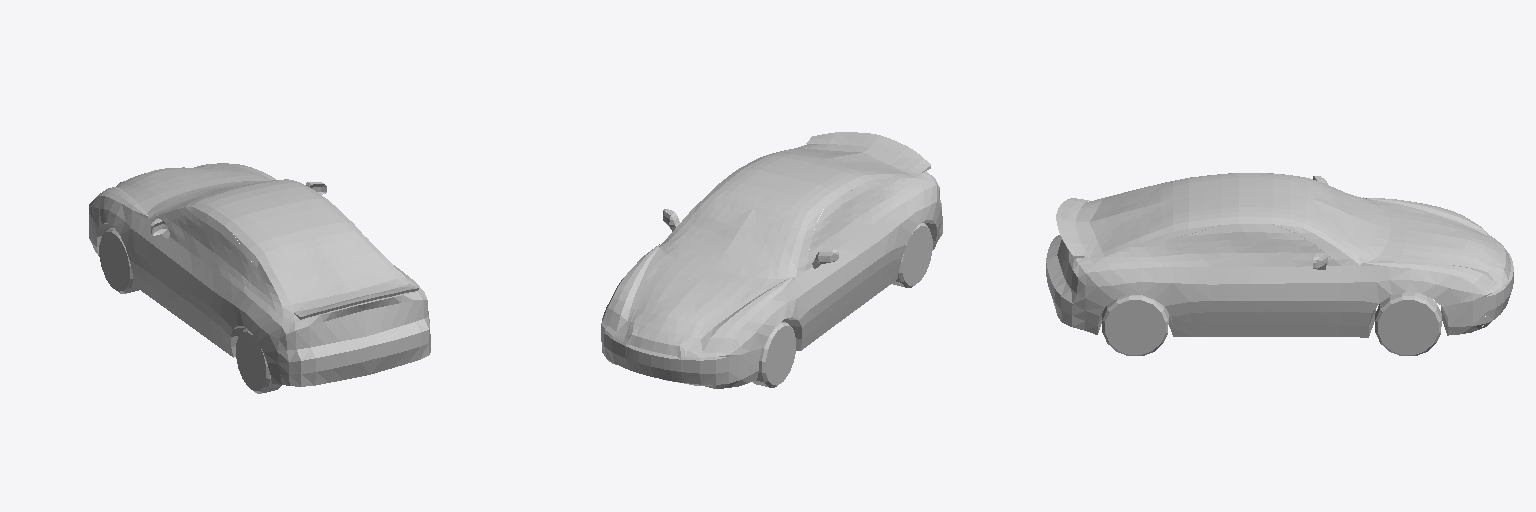
File: Hyundai Coupe1.obj
3 views of the same model, side by side, from view 1: azimuth 30°, elevation 25°; view 2: azimuth 150°, elevation 25°; view 3: azimuth 270°, elevation 25° (orthographic).
Visible parts, largest first — view 1: hundai_car strana_L, hundai_car krma, hundai_car krov, hundai_car sajba_zadnja, hundai_car hauba, hundai_car prozori_strana_L, hundai_car portapak, guma_prednja_L hundai_car, hundai_car guma_zadnja_L, hundai_car sajba_prednja, hundai_car krilce; view 2: hundai_car strana_L, hundai_car hauba, hundai_car sajba_prednja, hundai_car krov, hundai_car spoiler, hundai_car prozori_strana_L, guma_prednja_L hundai_car, hundai_car sajba_zadnja, hundai_car krilce, hundai_car guma_zadnja_L, hundai_car portapak; view 3: hundai_car strana_D, hundai_car hauba, hundai_car krov, hundai_car sajba_prednja, hundai_car prozori_strana_D, hundai_car sajba_zadnja, hundai_car guma_prednja_D, hundai_car guma_zadnja_D, hundai_car krma, hundai_car portapak, hundai_car krilce, hundai_car spoiler.
Part boxes in pixels (left/top/right/bottom): hundai_car strana_L: left=89, top=196, right=282, bottom=384; hundai_car krma: left=277, top=292, right=430, bottom=386; hundai_car krov: left=192, top=180, right=361, bottom=257; hundai_car sajba_zadnja: left=268, top=236, right=396, bottom=306; hundai_car hauba: left=97, top=163, right=275, bottom=218; hundai_car prozori_strana_L: left=166, top=214, right=251, bottom=272; hundai_car portapak: left=257, top=231, right=423, bottom=326; guma_prednja_L hundai_car: left=99, top=228, right=138, bottom=293; hundai_car guma_zadnja_L: left=236, top=328, right=281, bottom=393; hundai_car sajba_prednja: left=147, top=179, right=288, bottom=218; hundai_car krilce: left=294, top=284, right=418, bottom=319; hundai_car strana_L: left=729, top=178, right=940, bottom=387; hundai_car hauba: left=603, top=244, right=795, bottom=352; hundai_car sajba_prednja: left=660, top=198, right=807, bottom=278; hundai_car krov: left=705, top=153, right=872, bottom=223; hundai_car spoiler: left=601, top=320, right=729, bottom=388; hundai_car prozori_strana_L: left=807, top=186, right=880, bottom=263; guma_prednja_L hundai_car: left=752, top=322, right=795, bottom=387; hundai_car sajba_zadnja: left=782, top=147, right=908, bottom=174; hundai_car krilce: left=806, top=132, right=930, bottom=172; hundai_car guma_zadnja_L: left=892, top=223, right=932, bottom=287; hundai_car portapak: left=772, top=144, right=935, bottom=183; hundai_car strana_D: left=1085, top=225, right=1485, bottom=337; hundai_car hauba: left=1360, top=197, right=1505, bottom=291; hundai_car krov: left=1173, top=173, right=1307, bottom=231; hundai_car sajba_prednja: left=1304, top=177, right=1390, bottom=264; hundai_car prozori_strana_D: left=1172, top=224, right=1332, bottom=259; hundai_car sajba_zadnja: left=1083, top=183, right=1166, bottom=251; hundai_car guma_prednja_D: left=1375, top=292, right=1441, bottom=355; hundai_car guma_zadnja_D: left=1102, top=295, right=1168, bottom=355; hundai_car krma: left=1046, top=235, right=1085, bottom=330; hundai_car portapak: left=1076, top=181, right=1172, bottom=272; hundai_car krilce: left=1056, top=198, right=1088, bottom=258; hundai_car spoiler: left=1481, top=236, right=1513, bottom=328.
Bounding box in the file's own units: 12.46 × 8.71 × 28.83.